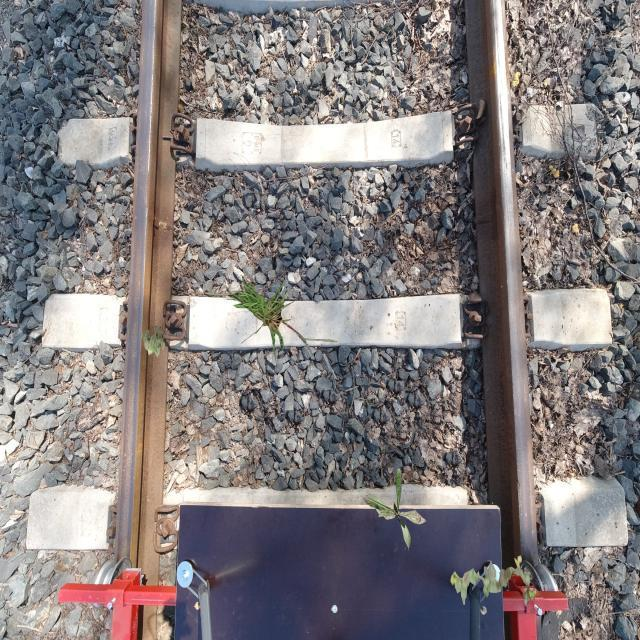Plant: (194, 276, 338, 366), (363, 469, 427, 553), (450, 555, 536, 606), (140, 326, 166, 358)
